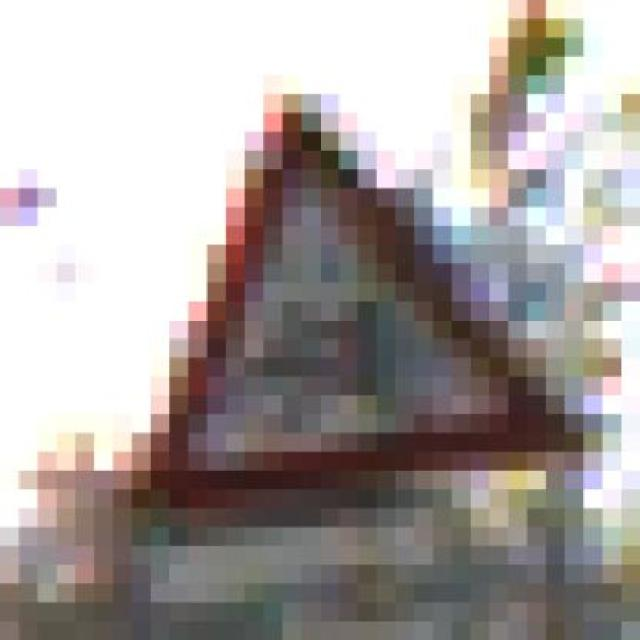CYCLE ROUTE AHEAD WARNING: (75, 94, 602, 528)
